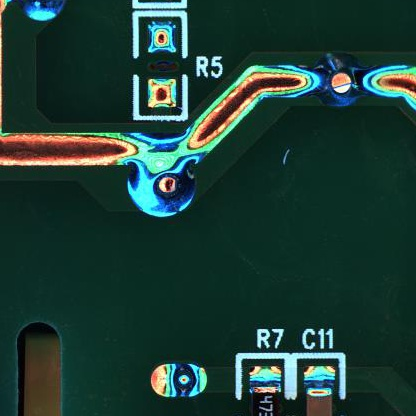spot: (125, 149, 196, 217), (311, 51, 367, 111), (149, 363, 207, 396)
